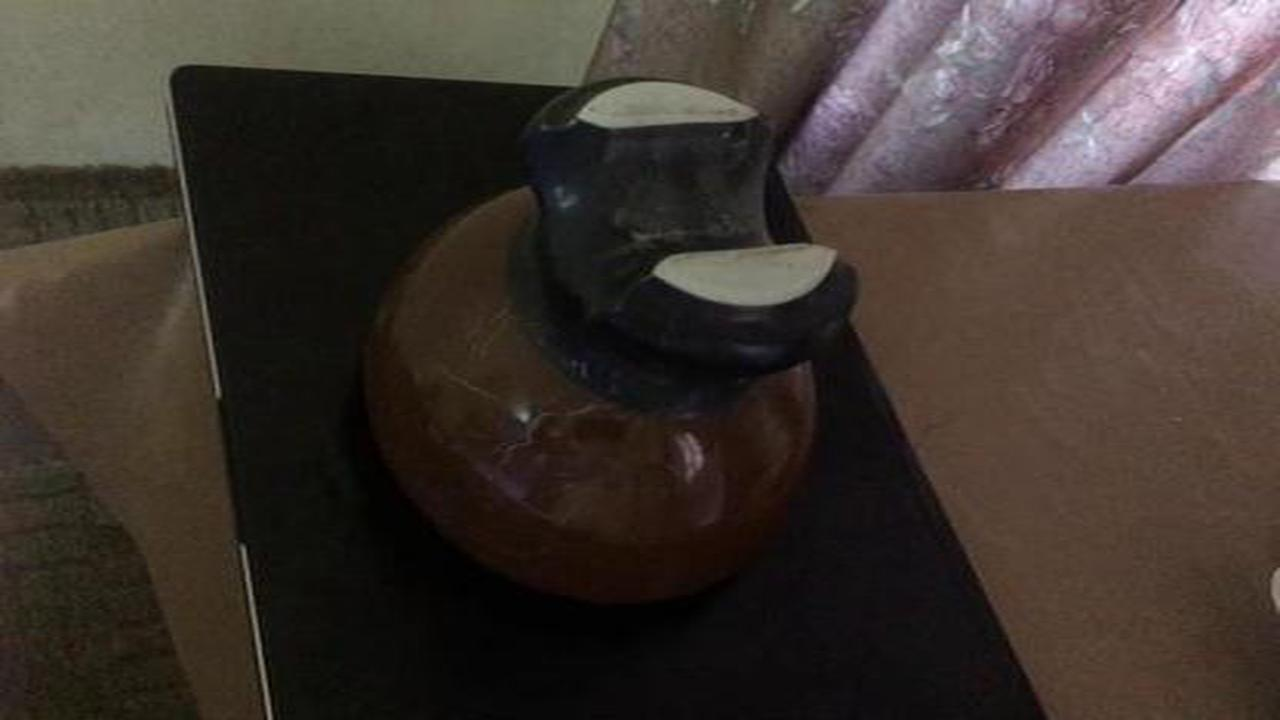insulator_pin: (342, 61, 884, 622)
